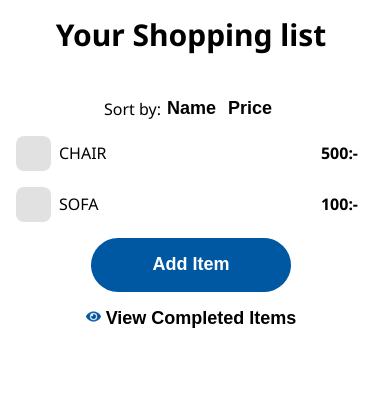
it: checking items present in completed list when check box is completed
The image size is (375, 398).
Check: the text "Bed" is not shown
Click the button "View Completed Items" at coordinates (191, 319), box [31,292,351,346]
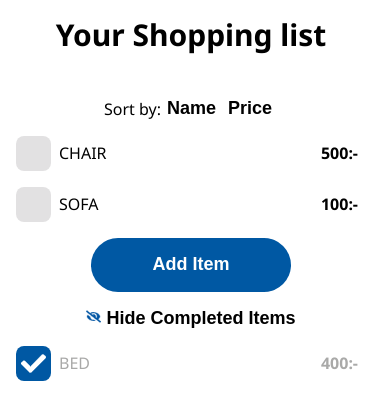
Check: the text "Bed" is shown, box [59,352,90,374]
